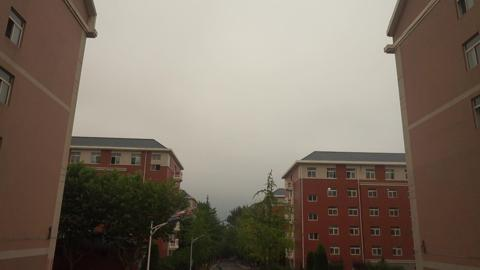UAV: (170, 208, 196, 221)
